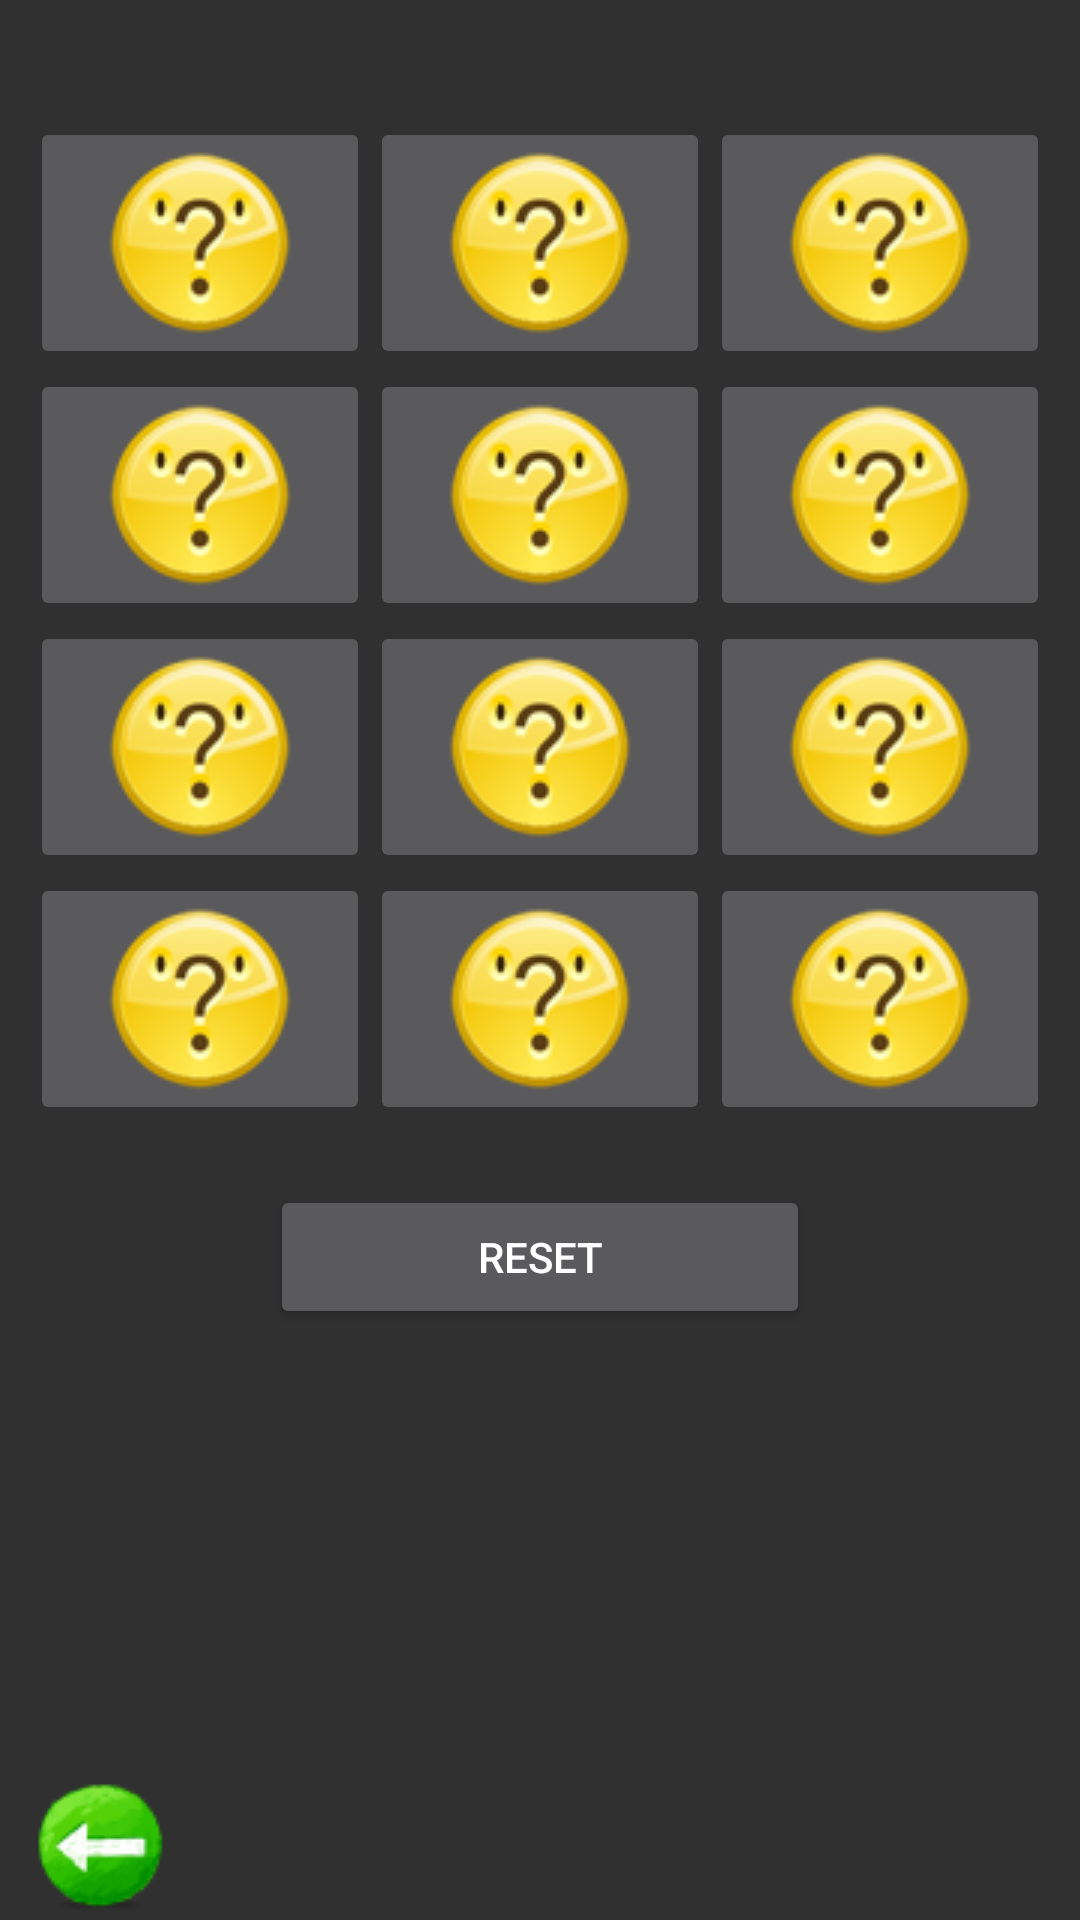

Screen size 1080px x 1920px. Icon name, then its box in pixels as box(x1, y1, x2, y2):
back kn: box(38, 1784, 163, 1906)
